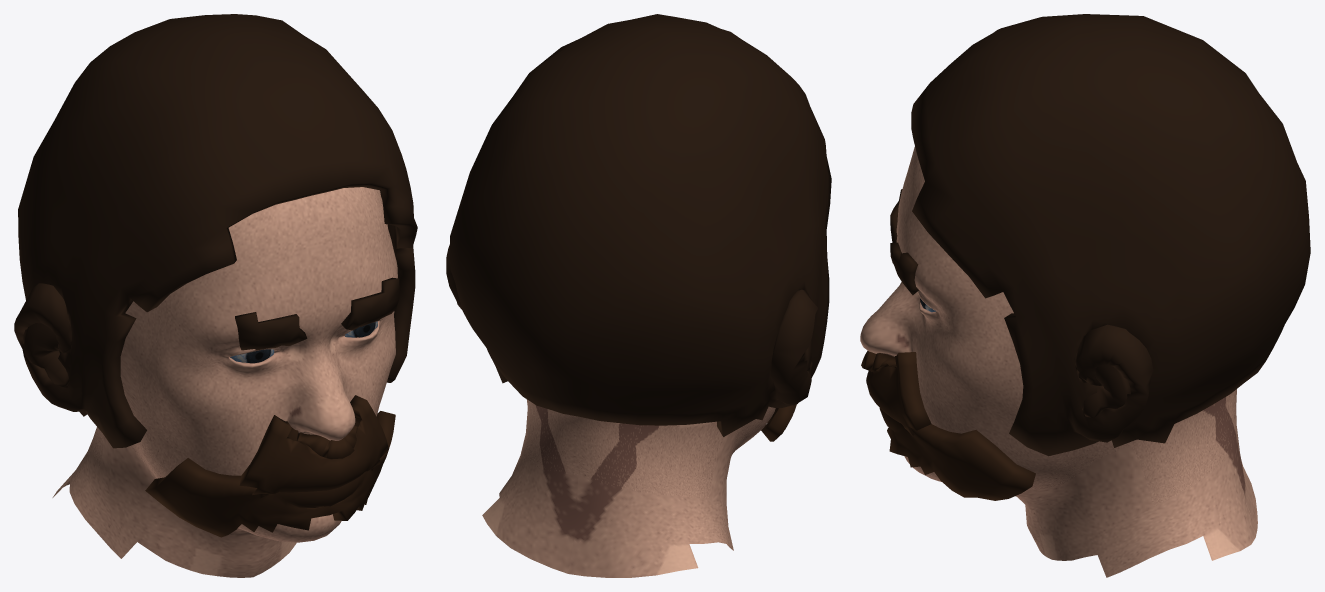
The model's file is nicholas_head.obj.
3 views of the same model, side by side, from view 1: azimuth 30°, elevation 25°; view 2: azimuth 150°, elevation 25°; view 3: azimuth 270°, elevation 25° (orthographic). The views are drawn at different scales.
Parts seen in each view (by area): view 1: hair, Human_export, beard, mustache, brows, Human.low-poly_export; view 2: hair, Human_export, beard; view 3: hair, Human_export, beard, mustache, brows.
Boxes of the visible parts, bbox=[...] form: hair: bbox=[14, 14, 417, 448]; Human_export: bbox=[52, 187, 397, 577]; beard: bbox=[145, 411, 395, 537]; mustache: bbox=[239, 395, 388, 494]; brows: bbox=[235, 277, 399, 350]; Human.low-poly_export: bbox=[230, 321, 377, 363]; hair: bbox=[446, 14, 831, 436]; Human_export: bbox=[482, 399, 775, 577]; beard: bbox=[761, 404, 796, 441]; hair: bbox=[911, 14, 1310, 456]; Human_export: bbox=[860, 147, 1257, 577]; beard: bbox=[879, 408, 1035, 500]; mustache: bbox=[861, 350, 931, 435]; brows: bbox=[890, 189, 918, 295].
Bounding box in the file's own units: 0.2179 × 0.2888 × 0.226.
6 materials, 2 textured.
